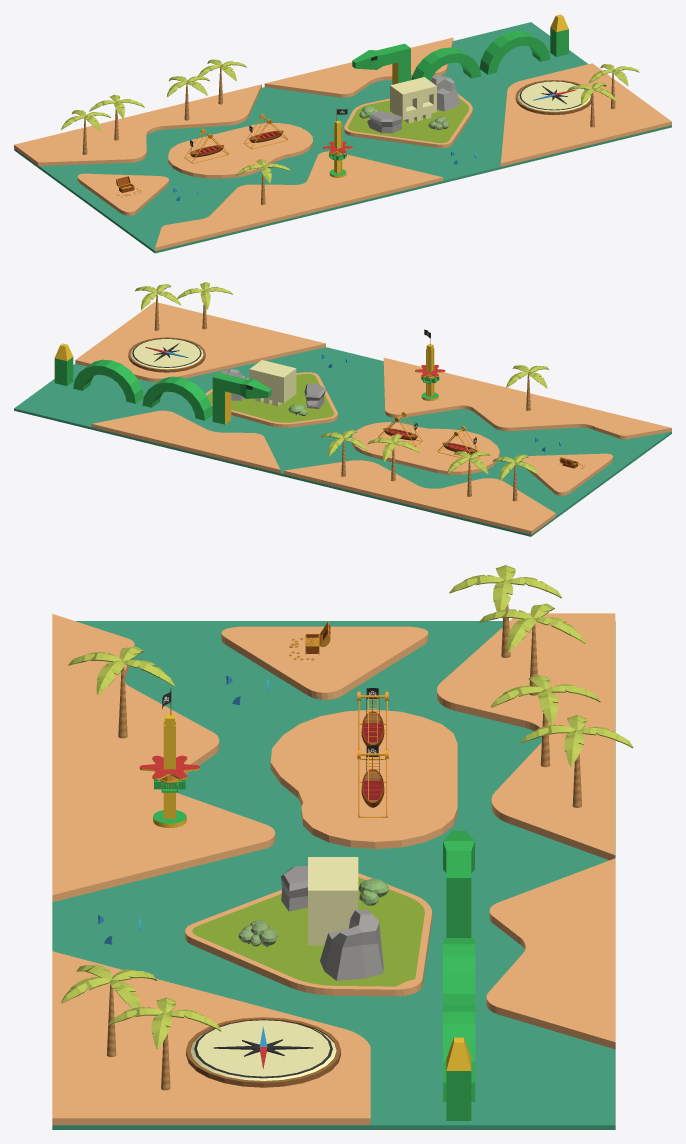
Rendered from D4_Pirate_island.fbx.
The picture shows the model from 3 angles, top to bottom: view 1: azimuth 30°, elevation 25°; view 2: azimuth 150°, elevation 25°; view 3: azimuth 270°, elevation 25°; orthographic projection. The views are drawn at different scales.
Parts seen in each view (by area): view 1: Plane, Cube.006, Cube.005, Cube.003, Cube.001, Cube.004, Cube.002, Cube, Cylinder.014, Cube.007, Cylinder.015, Cube.013 (+11 smaller); view 2: Plane, Cube.006, Cube.005, Cube.003, Cube.004, Cube.001, Cube.002, Cube, Cylinder.014, Cube.013, Cube.007, Cylinder.016 (+10 smaller); view 3: Plane, Cube.006, Cube.005, Cube.003, Cube.001, Cube.004, Cube.002, Cube, Cylinder.014, Cube.007, Stones__Rock_Gray_Rock_001.002, Cube.013 (+13 smaller).
Boxes of the visible parts, x1,y1,x2,y2 form: Plane: (14,22,671,253); Cube.006: (155,151,443,251); Cube.005: (500,63,671,166); Cube.003: (14,84,261,165); Cube.001: (168,123,312,178); Cube.004: (264,37,453,97); Cube.002: (344,94,472,148); Cube: (77,173,169,215); Cylinder.014: (515,80,591,114); Cube.007: (390,77,436,123); Cylinder.015: (479,30,550,74); Cube.013: (352,43,410,84); Plane: (14,347,671,536); Cube.006: (383,357,671,439); Cube.005: (75,302,325,382); Cube.003: (283,460,555,534); Cube.004: (91,410,280,473); Cube.001: (351,422,499,475); Cube.002: (205,372,337,427); Cube: (521,453,612,495); Cylinder.014: (128,337,205,372); Cube.013: (212,372,271,424); Cube.007: (249,360,296,406); Cylinder.016: (142,376,212,420); Plane: (52,621,615,1129); Cube.006: (52,614,275,902); Cube.005: (52,951,370,1125); Cube.003: (437,613,615,860); Cube.001: (270,709,457,848); Cube.004: (486,858,615,1049); Cube.002: (185,873,432,996); Cube: (221,626,428,699); Cylinder.014: (186,1017,340,1087); Cube.007: (308,857,358,945); Stones__Rock_Gray_Rock_001.002: (320,909,383,980); Cube.013: (443,830,474,937).
Bounding box in the file's own units: 20864 × 2772 × 10152.
Materials: 10 (4 with a texture image).
